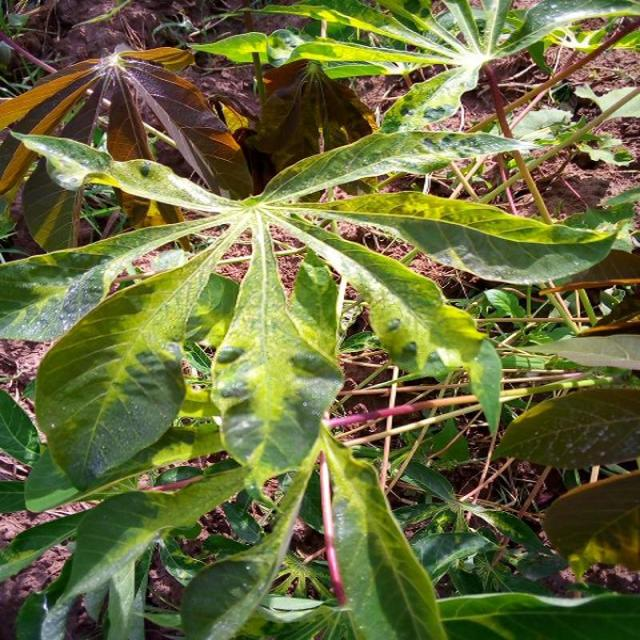cassava leaf: (33, 218, 239, 492), (209, 211, 345, 491)
